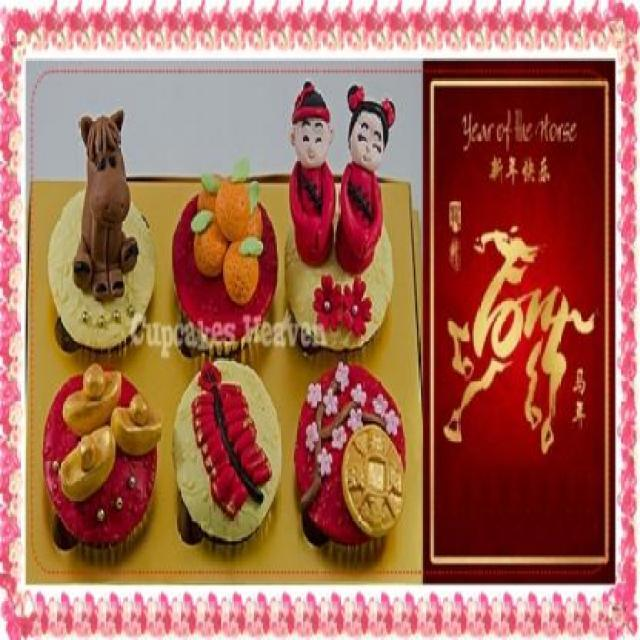Muffin: (41, 82, 406, 550)
